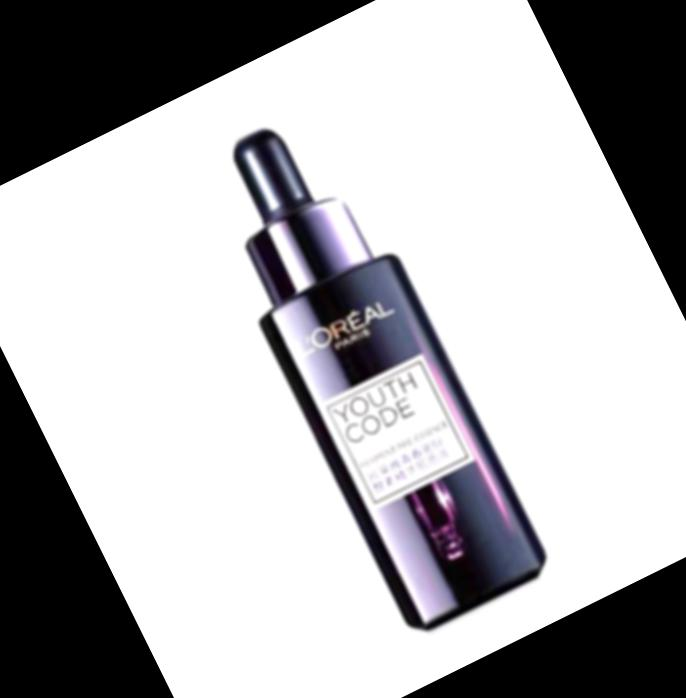cosmetic: (183, 99, 550, 636)
